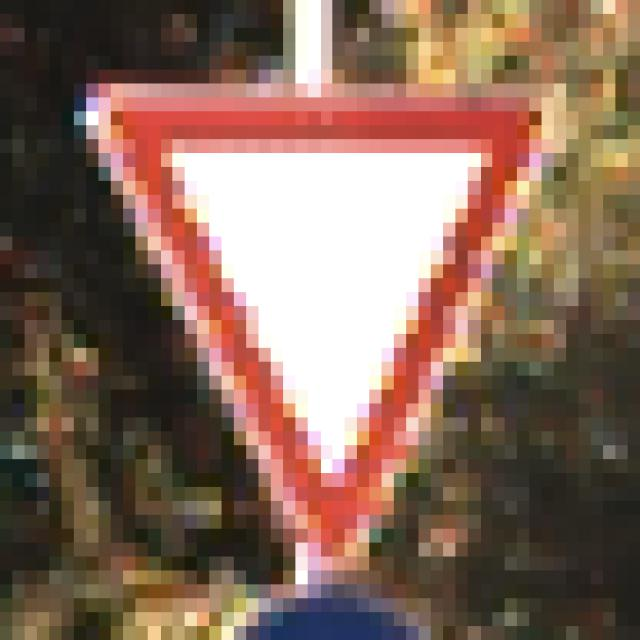Give Way: (75, 71, 579, 572)
